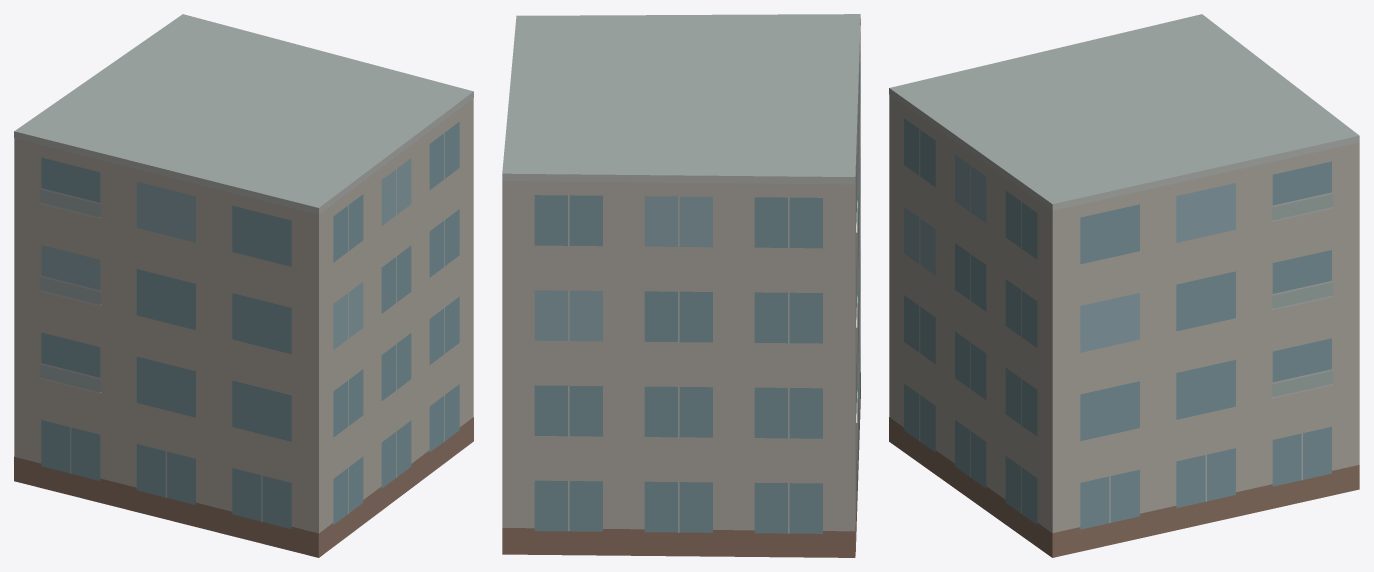
File: survey-upis-32724253.glb
The picture shows the model from 3 angles, left to right: view 1: azimuth 30°, elevation 25°; view 2: azimuth 150°, elevation 25°; view 3: azimuth 270°, elevation 25°; orthographic projection. The views are drawn at different scales.
Visible parts, largest first — view 1: survey-upis-32724253.tmp; view 2: survey-upis-32724253.tmp; view 3: survey-upis-32724253.tmp.
Boxes of the visible parts, left/top/right/bottom form: survey-upis-32724253.tmp: left=14, top=14, right=473, bottom=557; survey-upis-32724253.tmp: left=502, top=14, right=860, bottom=557; survey-upis-32724253.tmp: left=889, top=14, right=1359, bottom=557.
Size of the model in its own units: 14.83 by 12.85 by 15.5.
